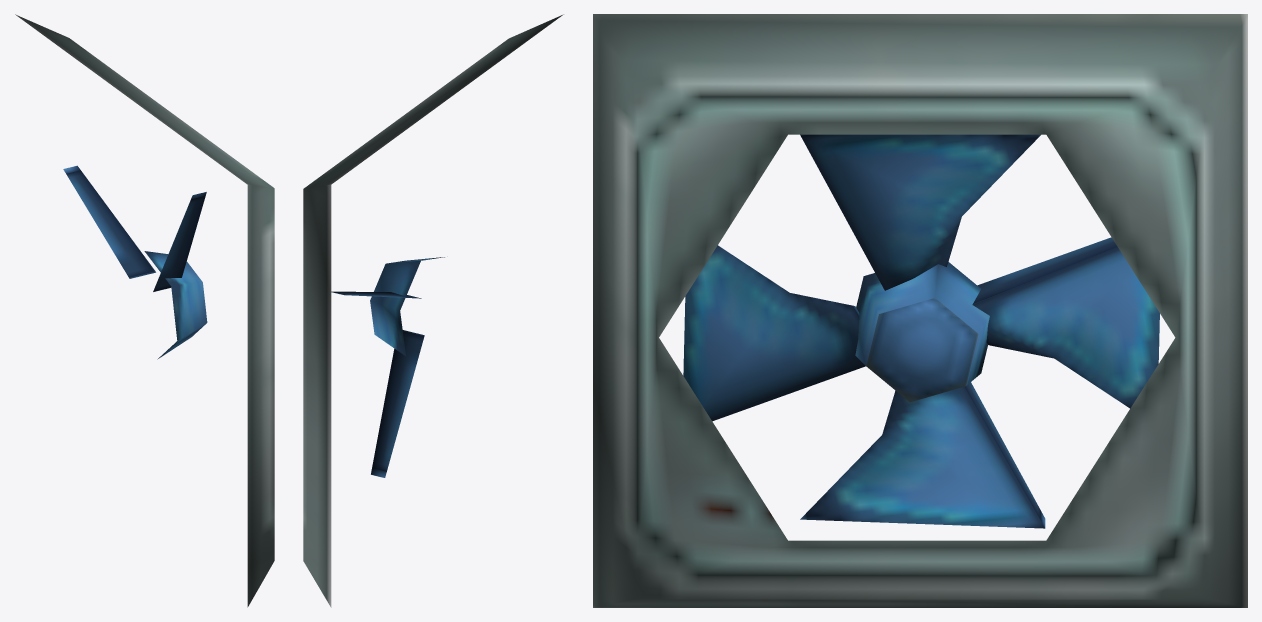
The model's file is a_SCgen44.glb.
3 renders of one model, left to right at view 1: azimuth 30°, elevation 25°; view 2: azimuth 150°, elevation 25°; view 3: azimuth 270°, elevation 25°, orthographic. The views are drawn at different scales.
Parts seen in each view (by area): view 1: a_SCgen44; view 2: a_SCgen44; view 3: a_SCgen44.
Part boxes in pixels (x1,y1,x2,y2): a_SCgen44: [15, 14, 274, 607]; a_SCgen44: [303, 14, 563, 607]; a_SCgen44: [593, 14, 1247, 607].
Size of the model in its own units: 0.0707 by 0.5003 by 0.4999.
Materials: 1 (1 with a texture image).
